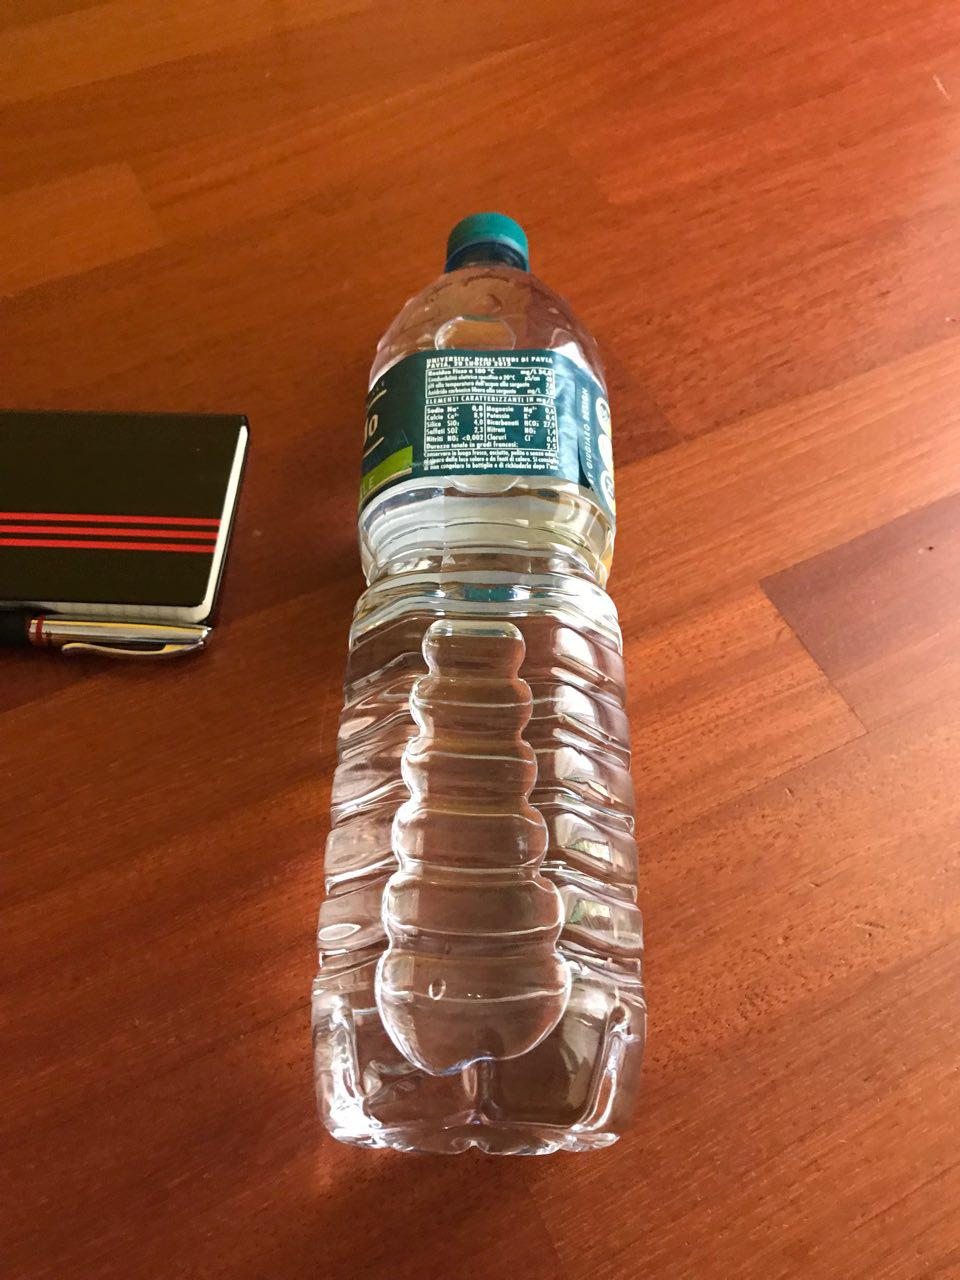san_bernardo: (306, 210, 650, 1161)
